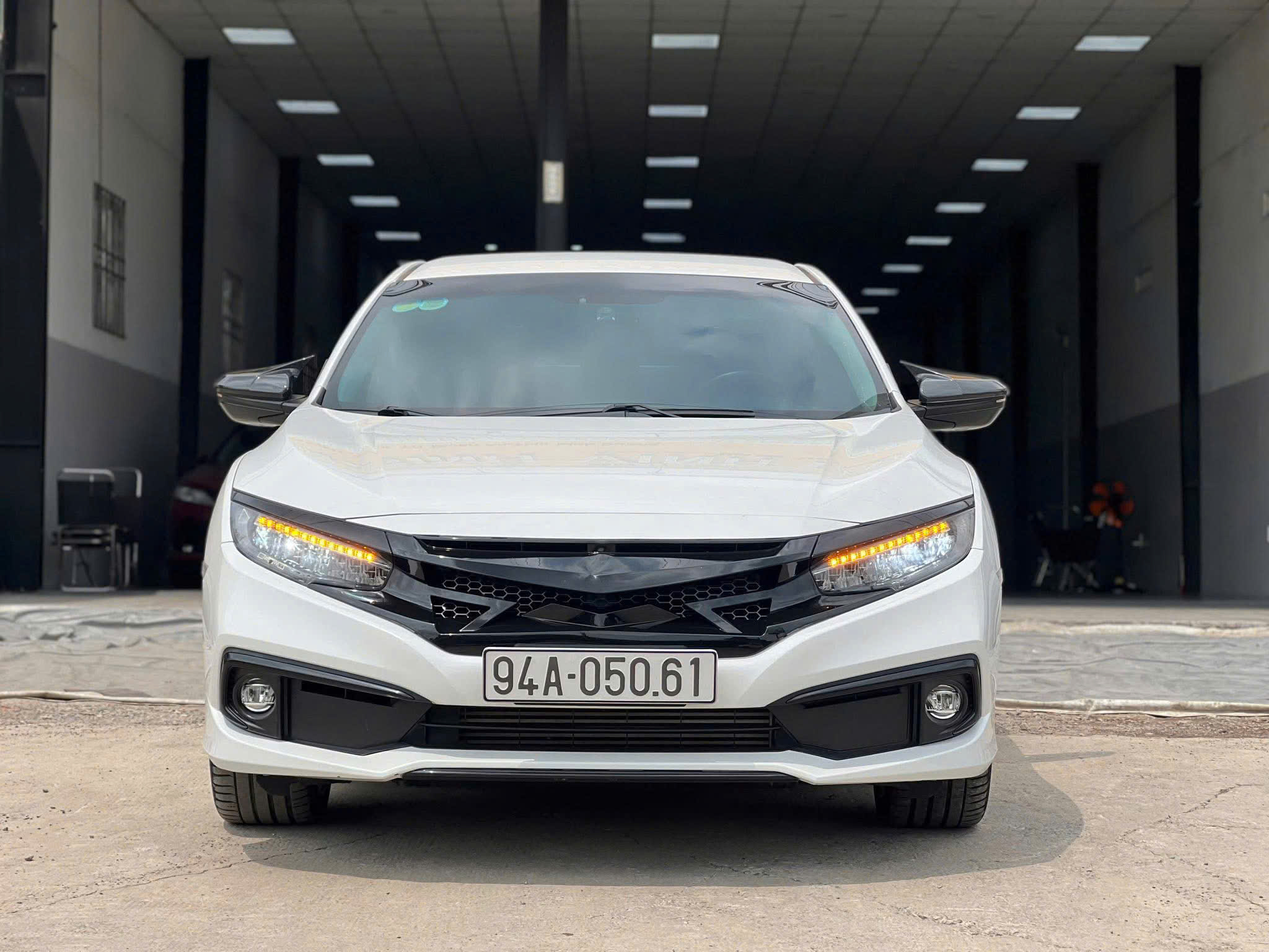Bien-so: (485, 645, 730, 712)
